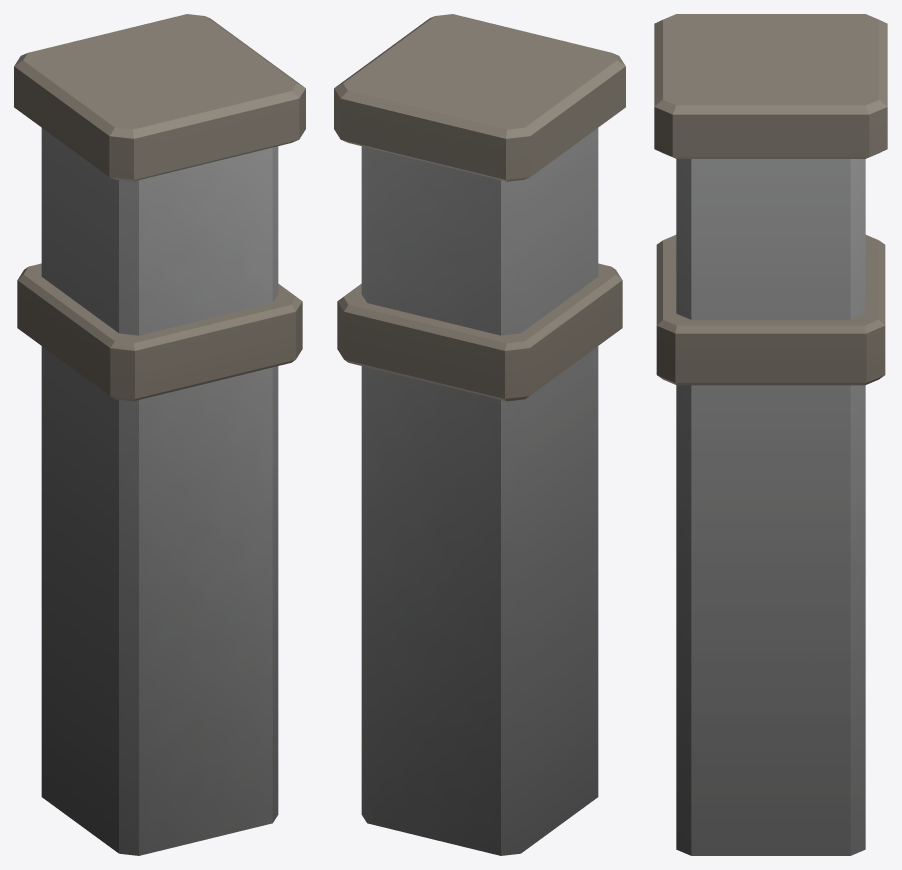
The model's file is WallFence_3_2_A.fbx.
3 views of the same model, side by side, from view 1: azimuth 30°, elevation 25°; view 2: azimuth 150°, elevation 25°; view 3: azimuth 270°, elevation 25° (orthographic). The views are drawn at different scales.
Parts seen in each view (by area): view 1: WallFence_3_2_A; view 2: WallFence_3_2_A; view 3: WallFence_3_2_A.
Boxes of the visible parts, x1,y1,x2,y2 form: WallFence_3_2_A: (14, 14, 305, 855); WallFence_3_2_A: (334, 14, 625, 855); WallFence_3_2_A: (654, 14, 887, 855).
Size of the model in its own units: 57.58 by 206 by 57.58.
